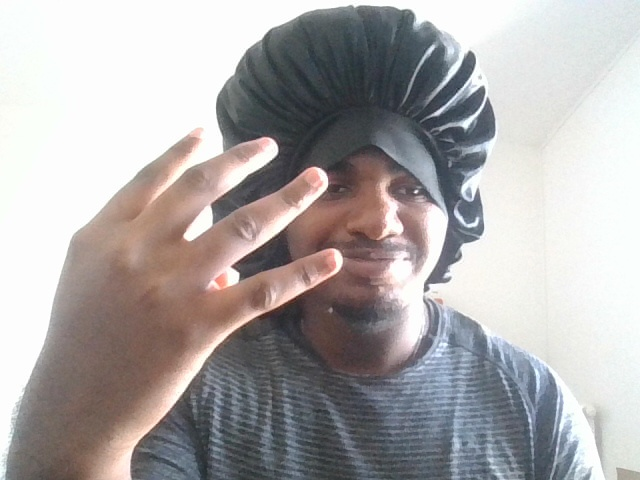I am Better Than Yu: (32, 108, 345, 421)
